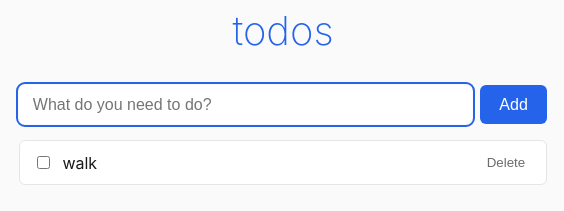
App (integration) › deletes a todo
The width and height of the screenshot is (564, 211).
Expected: the text "walk" is shown, [62, 151, 97, 175]
Click the button named "delete \"walk\"" at (506, 163), box [479, 151, 533, 174]
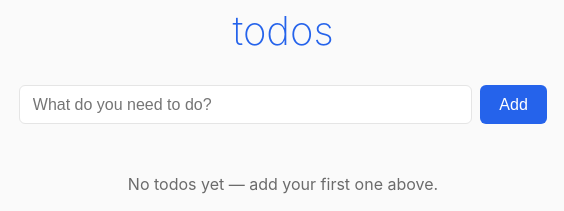
Result: the text "walk" is gone
Result: the text "No todos yet — add your first one above." is shown at [128, 174, 438, 194]
